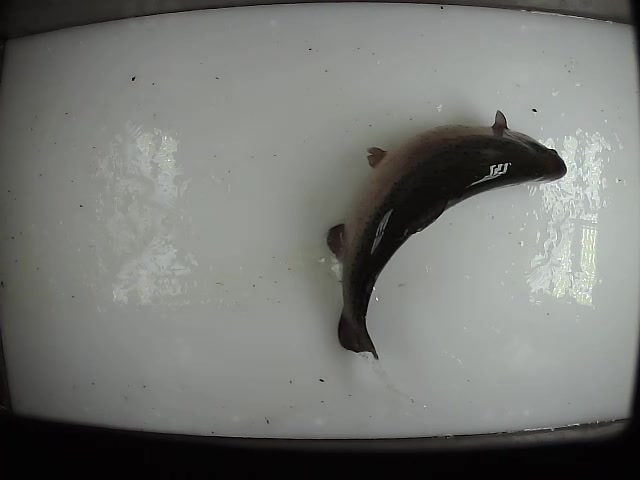fish: (325, 108, 570, 364)
